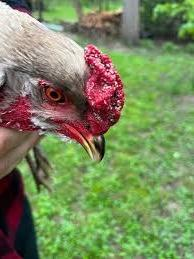AbNormal: (84, 44, 125, 133)
